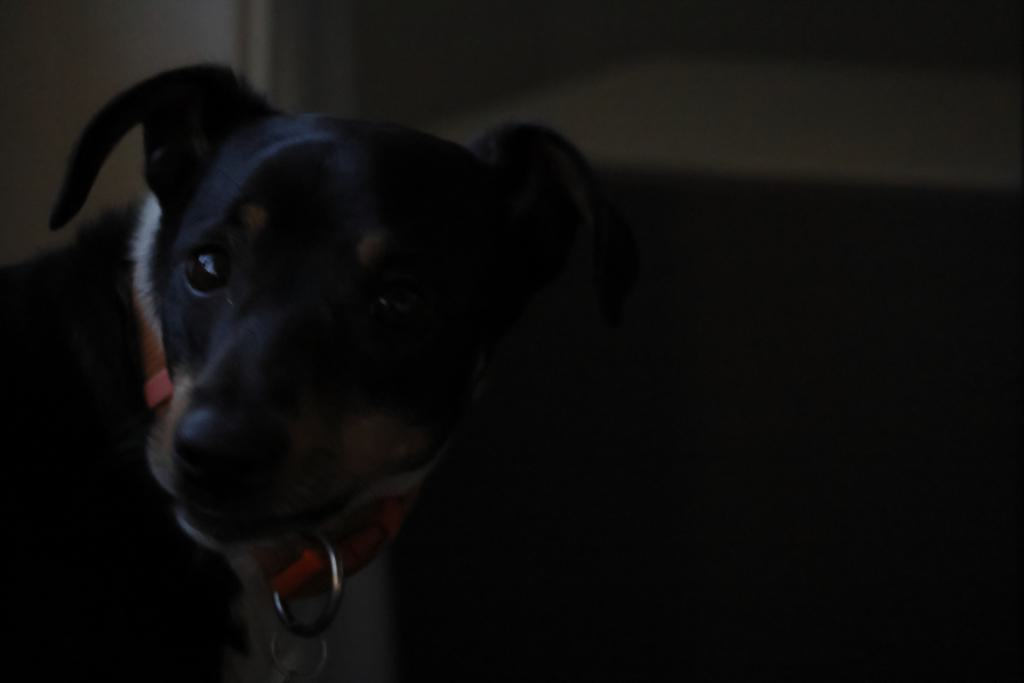Dog: (0, 53, 665, 683)
